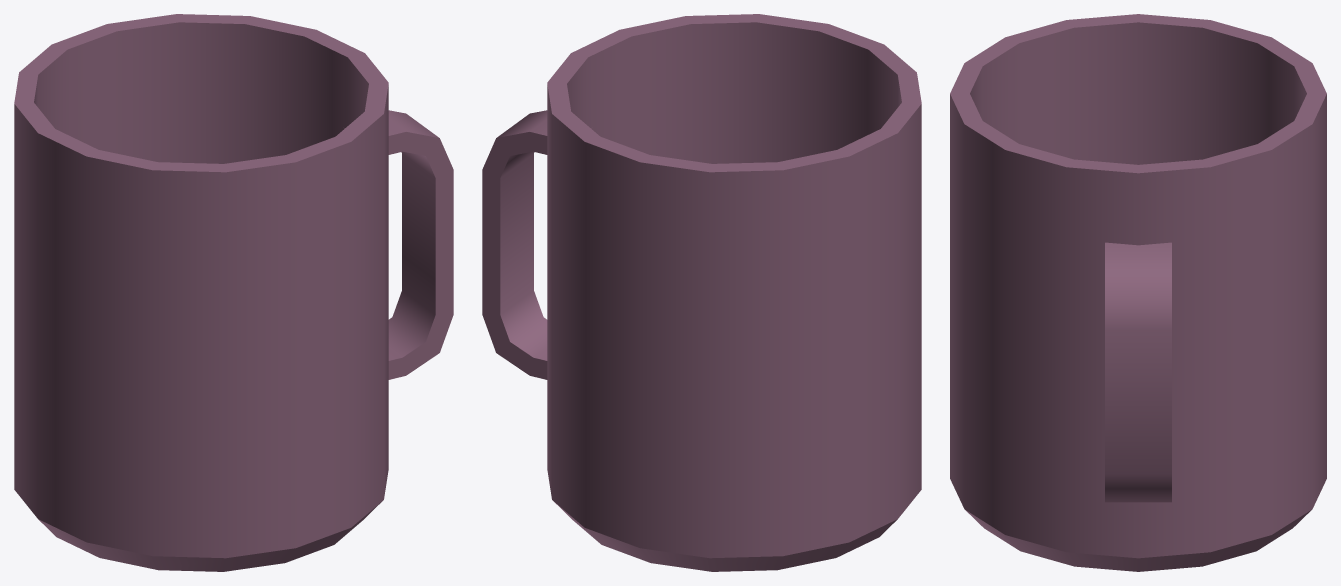
File: EN_Mug.001_V01.fbx
The picture shows the model from 3 angles, left to right: view 1: azimuth 30°, elevation 25°; view 2: azimuth 150°, elevation 25°; view 3: azimuth 270°, elevation 25°; orthographic projection.
Visible parts, largest first — view 1: GEO_Mug.001; view 2: GEO_Mug.001; view 3: GEO_Mug.001.
Part boxes in pixels (<box>): GEO_Mug.001: <box>14,14,453,571</box>; GEO_Mug.001: <box>482,14,921,571</box>; GEO_Mug.001: <box>950,14,1326,571</box>.
Bounding box in the file's own units: 15.83 × 15.49 × 12.98.
1 material, 1 textured.
